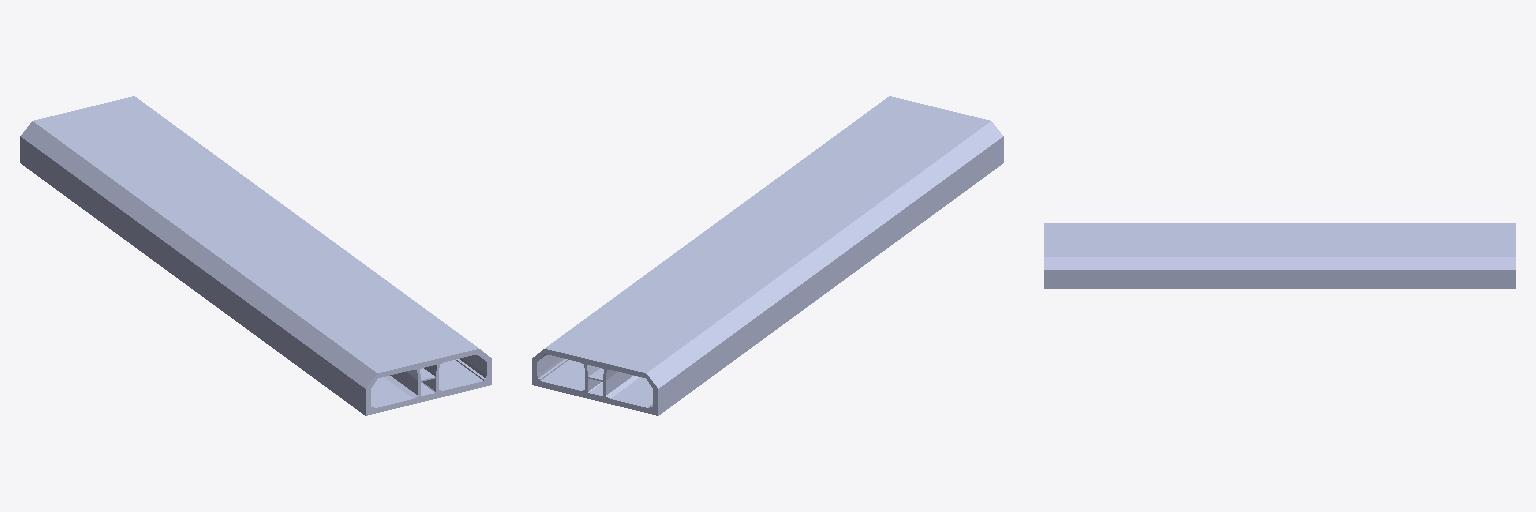
The robot description file, URDF, robot "tunnel":
<?xml version="1.0" encoding="utf-8"?>
<!-- This URDF was automatically created by SolidWorks to URDF Exporter! Originally created by [author] ([email redacted]) 
     Commit Version: 1.5.1-0-g916b5db  Build Version: 1.5.7152.31018
     For more information, please see http://wiki.ros.org/sw_urdf_exporter -->
<robot
  name="tunnel">
  <link
    name="base_link">
    <inertial>
      <origin
        xyz="-5.4764 -9.4817 179.99"
        rpy="0 0 0" />
      <mass
        value="27" />
      <inertia
        ixx="75651000000"
        ixy="13456000"
        ixz="5.0294E-06"
        iyy="78814000000"
        iyz="8.566E-07"
        izz="4217300000" />
    </inertial>
    <visual>
      <origin
        xyz="0 0 0"
        rpy="0 0 0" />
      <geometry>
        <mesh
          filename="package://tunnel/meshes/base_link.STL" />
      </geometry>
      <material
        name="">
        <color
          rgba="0.79216 0.81961 0.93333 1" />
      </material>
    </visual>
    <collision>
      <origin
        xyz="0 0 0"
        rpy="0 0 0" />
      <geometry>
        <mesh
          filename="package://tunnel/meshes/base_link.STL" />
      </geometry>
    </collision>
  </link>
</robot>

--- What the picture shows (computed from the rendered views, not written in the file) ---
3 views of the same robot in one strip: view 1: azimuth 30°, elevation 25°; view 2: azimuth 150°, elevation 25°; view 3: azimuth 270°, elevation 25° (orthographic).
Model tunnel with 1 links and 0 joints (none), rooted at base_link, posed every joint at zero.
Visible links, largest first — view 1: base_link; view 2: base_link; view 3: base_link.
Boxes of the visible links, <box> form: base_link: <box>20,96,491,415</box>; base_link: <box>532,96,1003,415</box>; base_link: <box>1044,223,1515,288</box>.
Size in the robot's own frame: 37.95 by 180 by 11.4 metres.
1 mesh visuals loaded from 1 distinct referenced files (1 binary STL).
